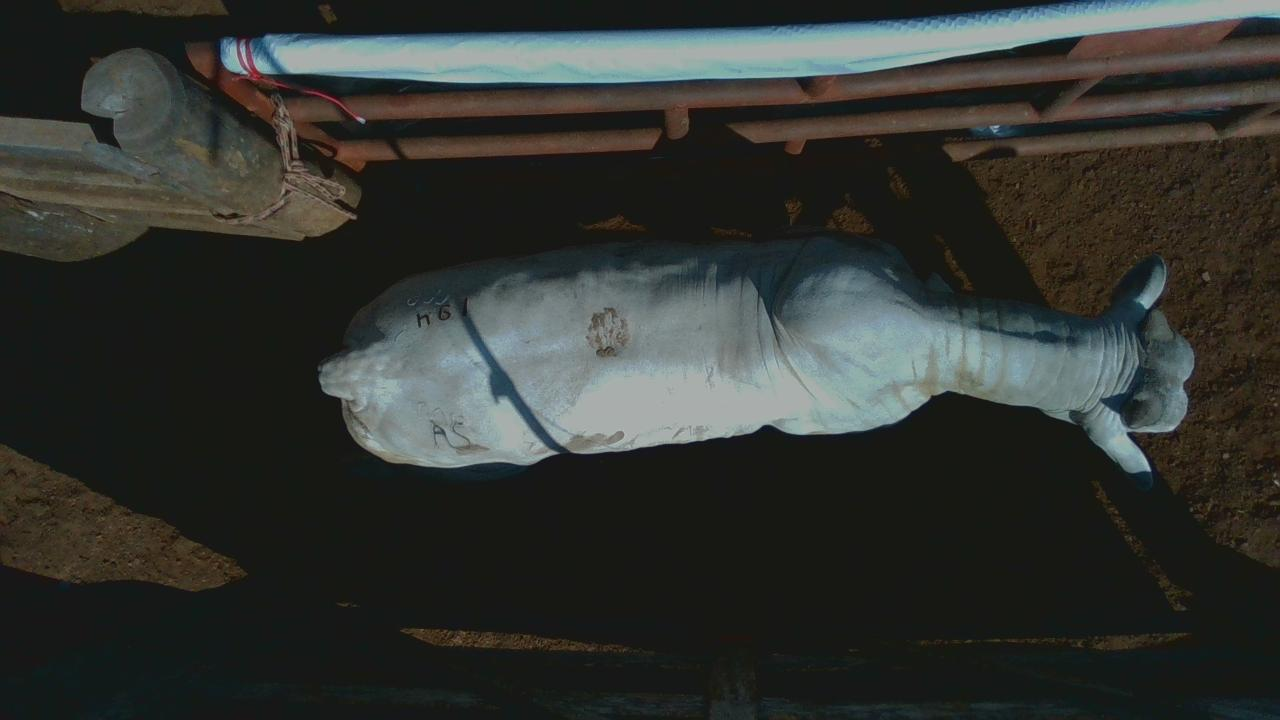cattle: (316, 228, 1195, 491)
